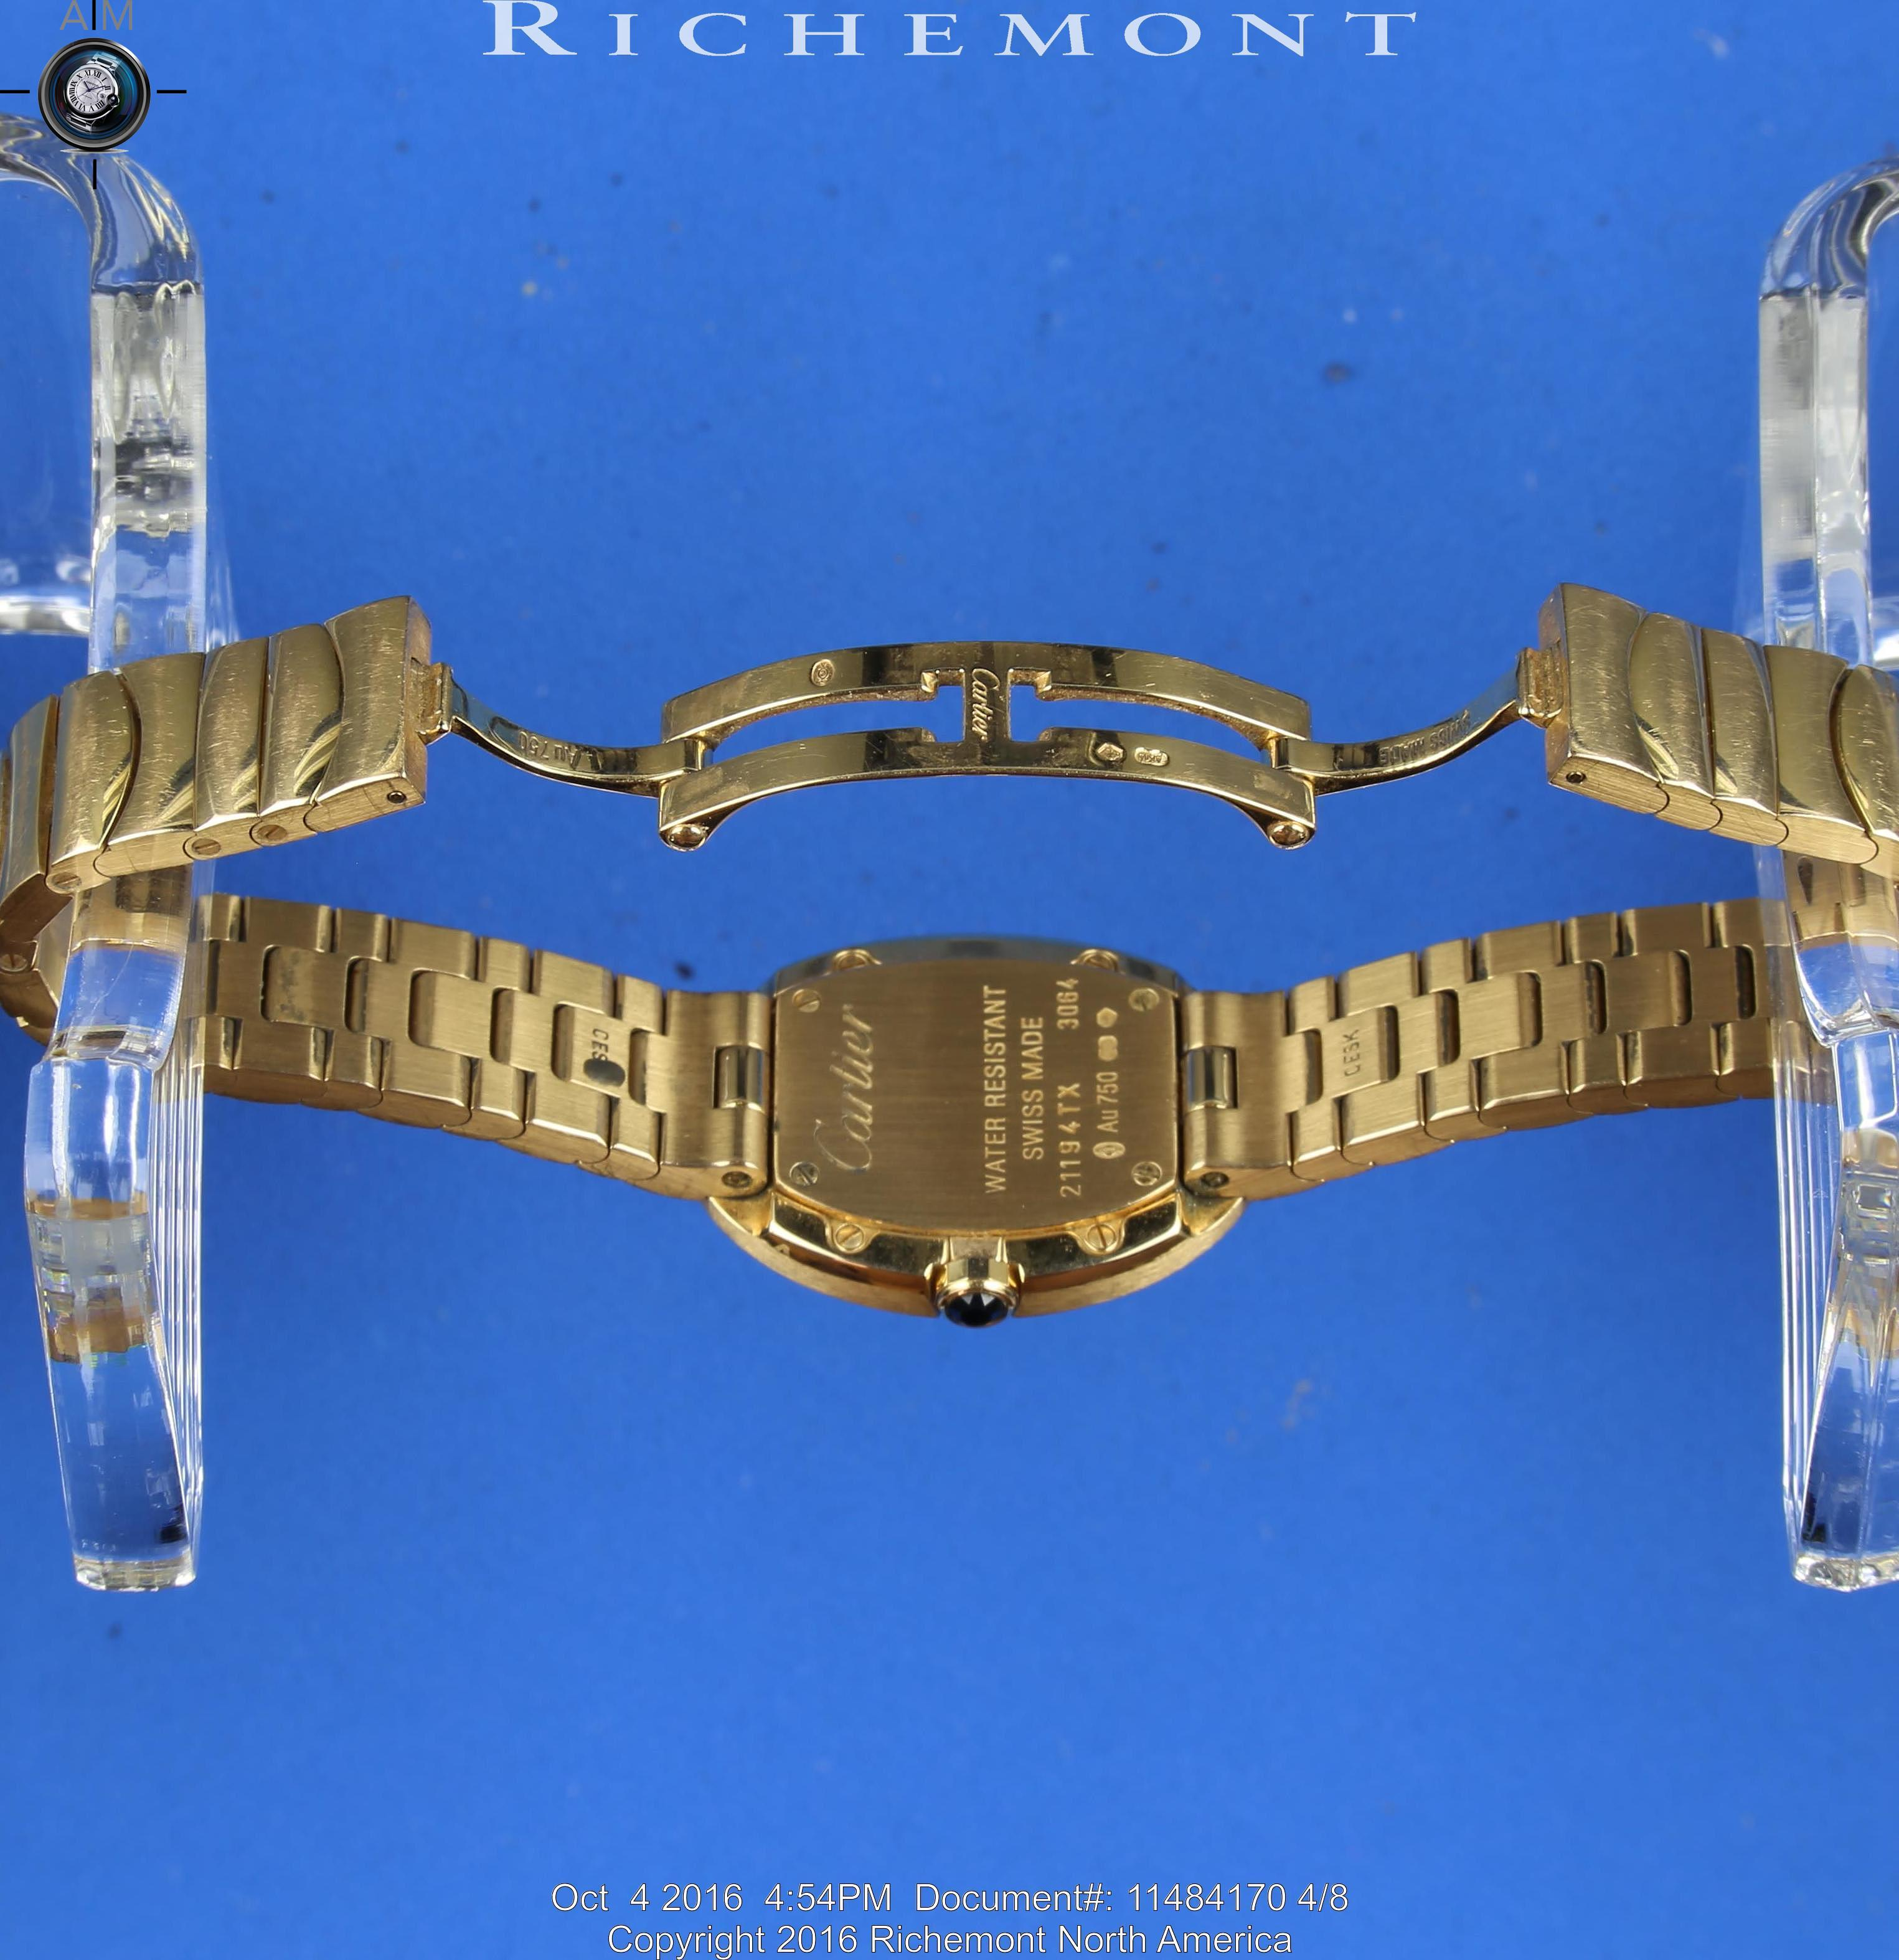Watch Back Case: (707, 931, 1244, 1335)
